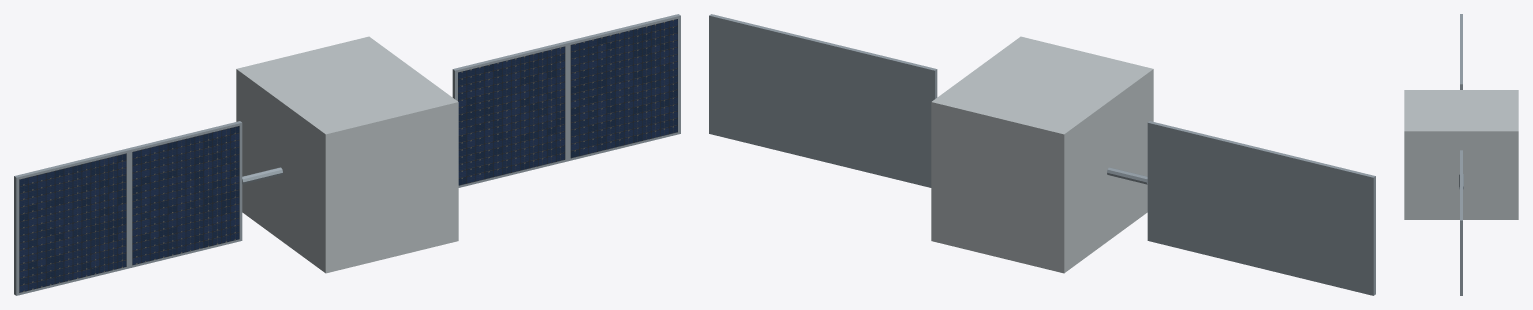
File: ref-index-28810.glb
The picture shows the model from 3 angles, left to right: view 1: azimuth 30°, elevation 25°; view 2: azimuth 150°, elevation 25°; view 3: azimuth 270°, elevation 25°; orthographic projection. The views are drawn at different scales.
Visible parts, largest first — view 1: Photovoltaic laminates (×4), Spacecraft body, Array frame (×4); view 2: Array frame (×4), Spacecraft body; view 3: Spacecraft body, Array frame (×4).
Part boxes in pixels (left/top/right/bottom): Photovoltaic laminates (×4): left=19, top=19, right=677, bottom=292; Spacecraft body: left=236, top=36, right=458, bottom=273; Array frame (×4): left=14, top=14, right=680, bottom=295; Array frame (×4): left=709, top=14, right=1375, bottom=295; Spacecraft body: left=931, top=36, right=1153, bottom=273; Spacecraft body: left=1404, top=90, right=1518, bottom=219; Array frame (×4): left=1460, top=14, right=1462, bottom=295.
Size of the model in its own units: 3 by 0.6 by 0.7.
3 materials, 1 textured.
